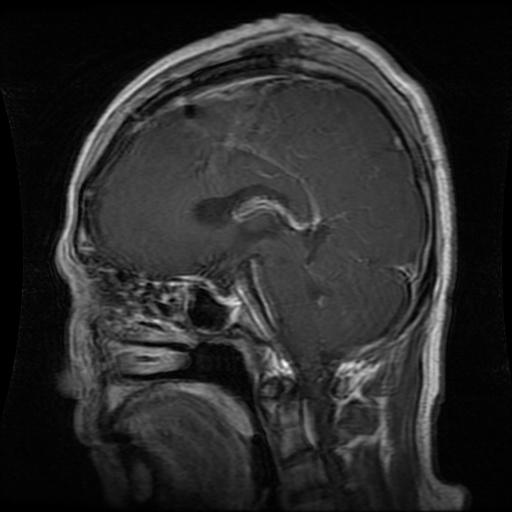glioma: (177, 87, 284, 163)
